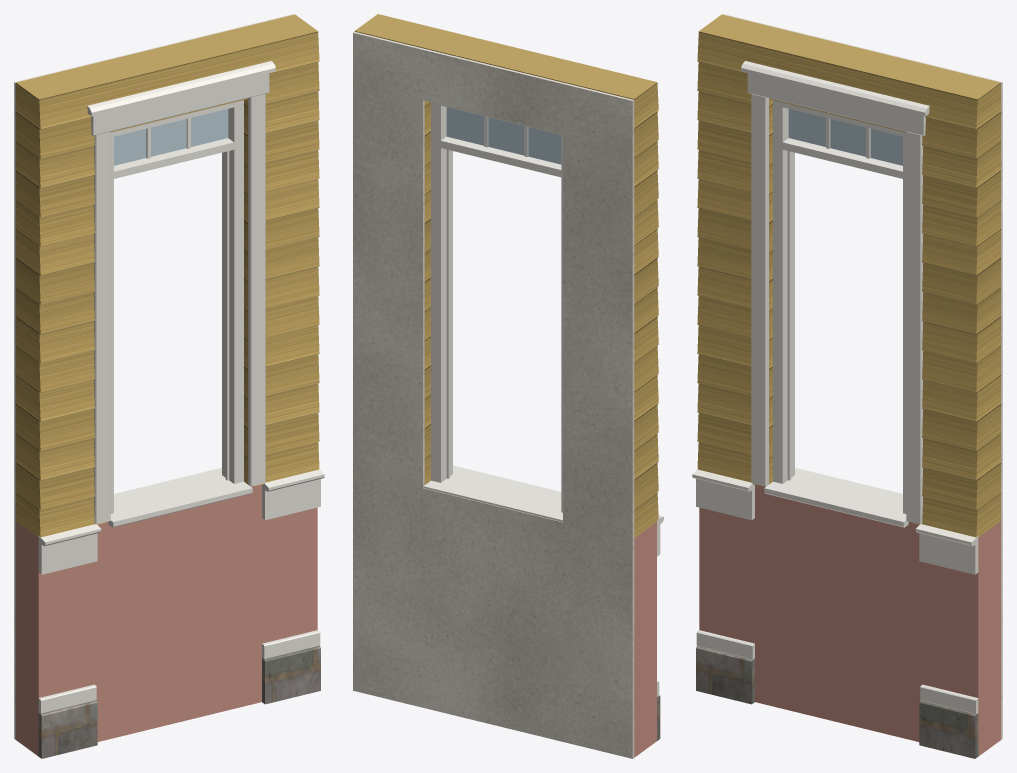
File: b_g_door_a.glb
3 renders of one model, left to right at view 1: azimuth 30°, elevation 25°; view 2: azimuth 150°, elevation 25°; view 3: azimuth 330°, elevation 25°, orthographic.
Visible parts, largest first — view 1: b_g_door_a_siding_a, b_g_door_a_acc_a, b_g_door_a_trim, b_g_door_a_frame, b_g_door_a_plinth, b_g_door_a_glass, b_g_door_a_plaster; view 2: b_g_door_a_plaster, b_g_door_a_siding_a, b_g_door_a_frame, b_g_door_a_acc_a, b_g_door_a_trim, b_g_door_a_glass; view 3: b_g_door_a_siding_a, b_g_door_a_acc_a, b_g_door_a_trim, b_g_door_a_frame, b_g_door_a_plinth, b_g_door_a_glass, b_g_door_a_plaster.
Part boxes in pixels (box(x1,y1,x2,y2)): b_g_door_a_siding_a: box(16, 14, 319, 537); b_g_door_a_acc_a: box(16, 485, 317, 756); b_g_door_a_trim: box(38, 61, 324, 713); b_g_door_a_frame: box(110, 100, 243, 513); b_g_door_a_plinth: box(38, 646, 320, 758); b_g_door_a_glass: box(114, 109, 228, 165); b_g_door_a_plaster: box(14, 14, 293, 739); b_g_door_a_plaster: box(353, 31, 634, 758); b_g_door_a_siding_a: box(354, 14, 658, 537); b_g_door_a_frame: box(431, 102, 562, 512); b_g_door_a_acc_a: box(634, 522, 656, 757); b_g_door_a_trim: box(423, 465, 663, 696); b_g_door_a_glass: box(446, 107, 561, 164); b_g_door_a_siding_a: box(697, 14, 1000, 537); b_g_door_a_acc_a: box(699, 485, 1000, 756); b_g_door_a_trim: box(692, 61, 978, 713); b_g_door_a_frame: box(773, 100, 906, 513); b_g_door_a_plinth: box(696, 646, 978, 758); b_g_door_a_glass: box(788, 109, 902, 165); b_g_door_a_plaster: box(723, 14, 1002, 739).
Bounding box in the file's own units: 2 × 4.5 × 0.385.
7 materials, 3 textured.
